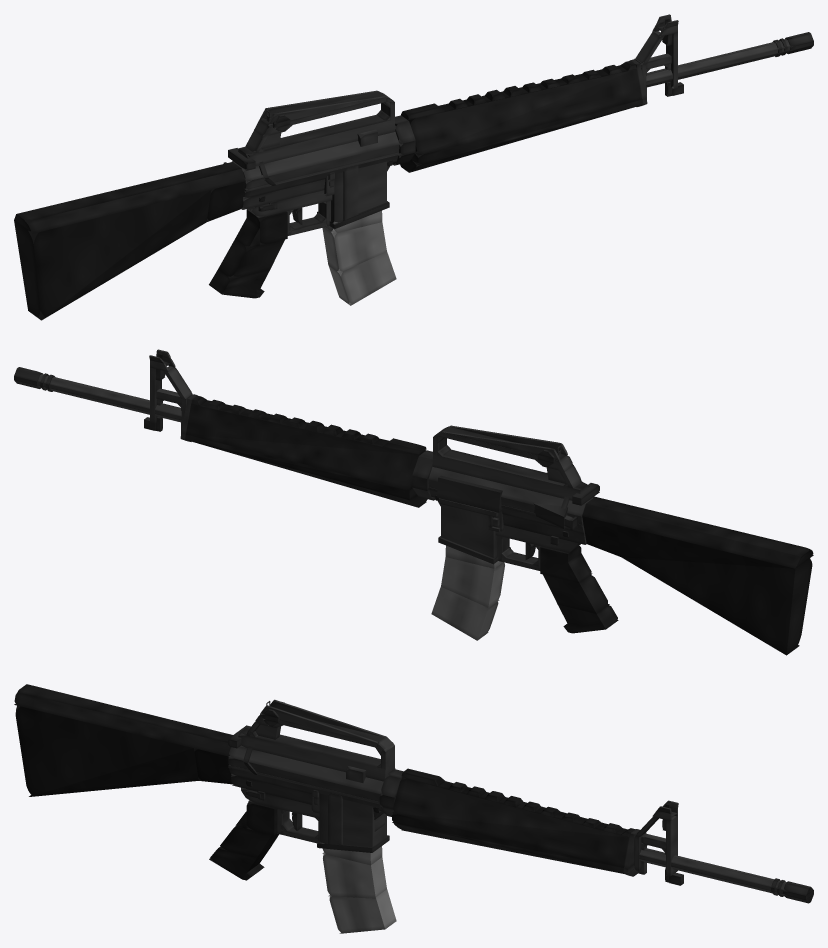
The picture shows the model from 3 angles, top to bottom: view 1: azimuth 30°, elevation 25°; view 2: azimuth 150°, elevation 25°; view 3: azimuth 330°, elevation 25°; orthographic projection.
Visible parts, largest first — view 1: gunModel0, gunModel47, gunModel1, gunModel20, ammoModel1, ammoModel2, gunModel2, gunModel105, gunModel7, gunModel10, gunModel3, gunModel74 (+12 smaller); view 2: gunModel0, gunModel47, gunModel1, gunModel20, ammoModel1, gunModel7, ammoModel2, gunModel105, gunModel10, gunModel2, gunModel40, gunModel74 (+11 smaller); view 3: gunModel0, gunModel47, gunModel1, gunModel20, ammoModel1, ammoModel2, gunModel7, gunModel2, gunModel105, gunModel3, gunModel74, gunModel10 (+15 smaller).
Part boxes in pixels (x1,y1,x2,y2): gunModel0: (14,190,211,320); gunModel47: (401,65,641,155); gunModel1: (14,162,245,233); gunModel20: (238,115,395,165); ammoModel1: (322,222,386,273); ammoModel2: (329,252,396,305); gunModel2: (232,132,399,181); gunModel105: (411,99,642,165); gunModel7: (331,161,386,224); gunModel10: (218,239,284,278); gunModel3: (240,144,399,189); gunModel74: (646,39,790,81); gunModel0: (616,525,812,655); gunModel47: (186,400,425,490); gunModel1: (582,497,813,568); gunModel20: (432,449,589,500); ammoModel1: (441,557,504,608); gunModel7: (441,504,496,557); ammoModel2: (431,587,498,640); gunModel105: (185,434,416,499); gunModel10: (543,574,609,613); gunModel2: (428,467,594,516); gunModel40: (437,475,502,512); gunModel74: (37,374,181,416); gunModel0: (15,705,199,796); gunModel47: (392,773,628,867); gunModel1: (14,684,232,756); gunModel20: (238,726,395,781); ammoModel1: (323,854,386,898); ammoModel2: (329,889,396,933); gunModel7: (319,793,386,846); gunModel2: (228,745,383,793); gunModel105: (392,813,623,873); gunModel3: (228,757,382,801); gunModel74: (639,848,788,889); gunModel10: (218,826,278,857).
Bounding box in the file's own units: 34.28 × 8.68 × 2.2.
